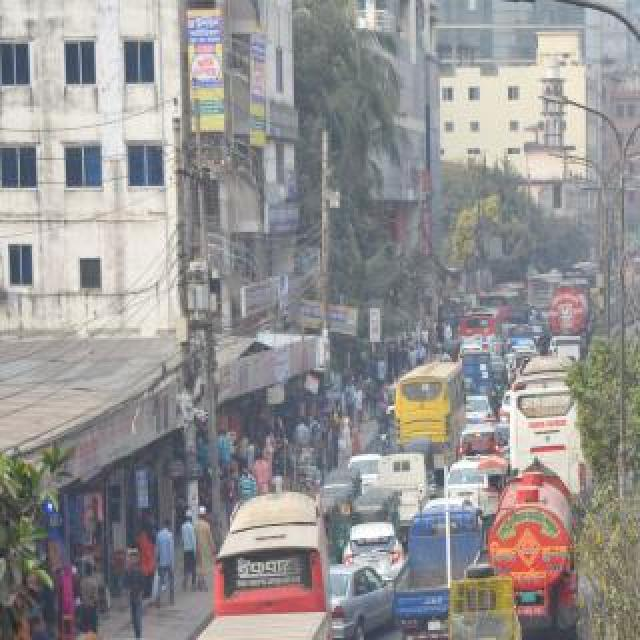bus: (208, 484, 336, 640), (507, 352, 591, 492), (399, 356, 465, 470), (0, 624, 210, 640), (458, 307, 504, 361), (528, 267, 562, 311), (477, 290, 521, 318), (498, 281, 526, 311), (618, 256, 640, 290)
car: (330, 552, 396, 640), (346, 519, 406, 597), (447, 458, 487, 520), (348, 450, 384, 494), (464, 393, 494, 427), (529, 319, 551, 353), (505, 352, 515, 376)
motorbike: (375, 402, 397, 456)
truck: (482, 462, 586, 640), (548, 277, 594, 345)
van: (402, 496, 492, 640), (446, 570, 528, 640), (367, 448, 427, 534), (194, 608, 344, 640), (461, 412, 505, 464), (459, 347, 495, 399), (552, 334, 582, 364), (507, 322, 535, 346)
